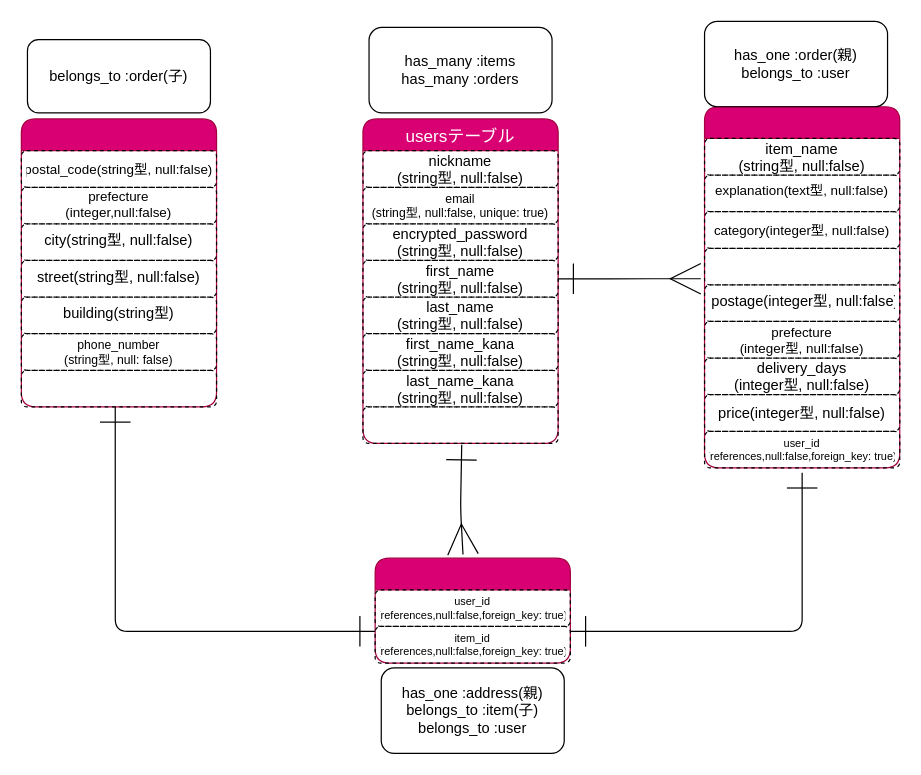
Image size: 921x775. Some labels were removed from this diagram. Each missing label, with the box of its shape:
addressesテーブル: (20, 118, 217, 407)
birthday(date null:false): (362, 406, 558, 443)
condition(integer型, null:false): (703, 247, 900, 285)
itemsテーブル: (703, 106, 900, 468)
order_id (references,null:false,foreign_key: true): (20, 369, 217, 407)
ordersテーブル: (374, 557, 570, 663)
